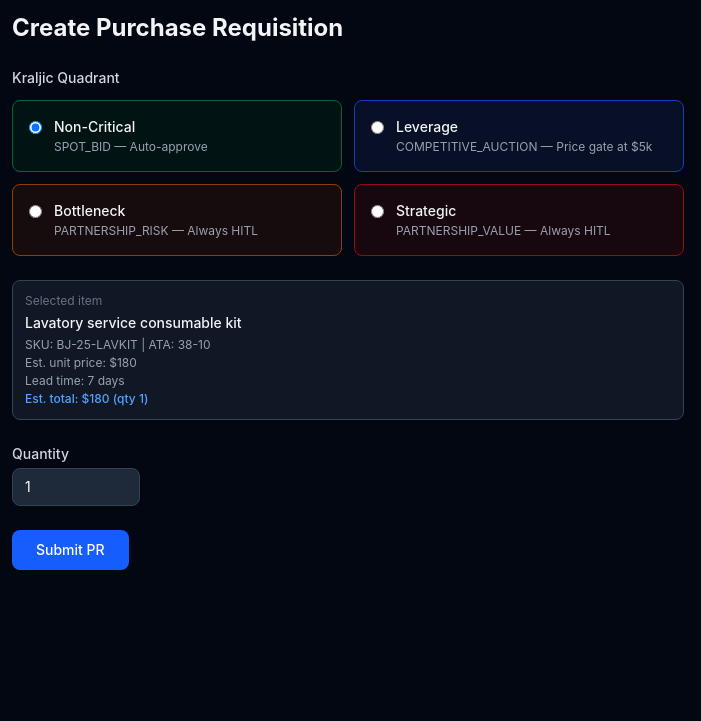
Test: PRForm › submits the PR and reports the created negotiation
This screenshot has width=701, height=721.
Expected: the text "Lavatory service consumable kit" is shown, [25,314,242,331]
What coordinates should you click on to do the following:
click the button "Submit PR"
I would click on:
 (70, 550)
Its box is [12,530,129,570].
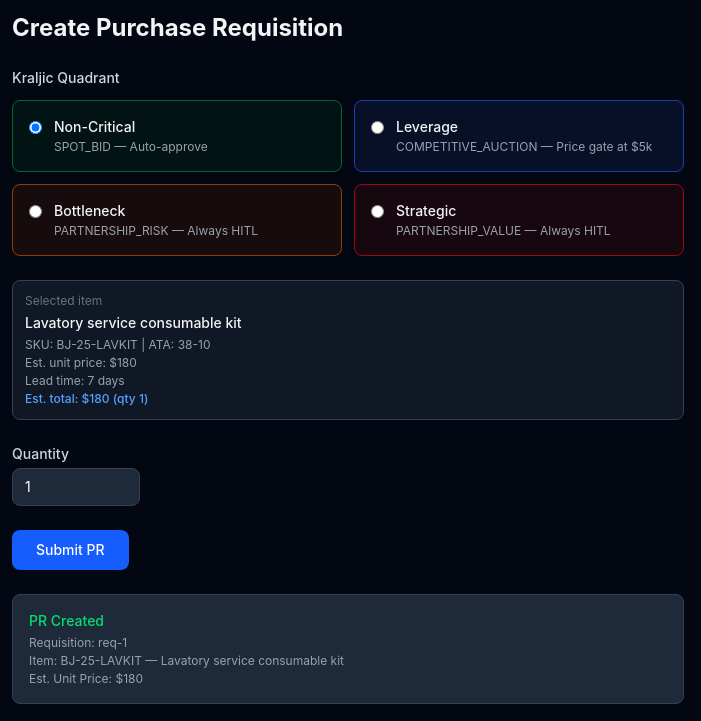
Result: the text "PR Created" is shown at [29,612,104,629]
